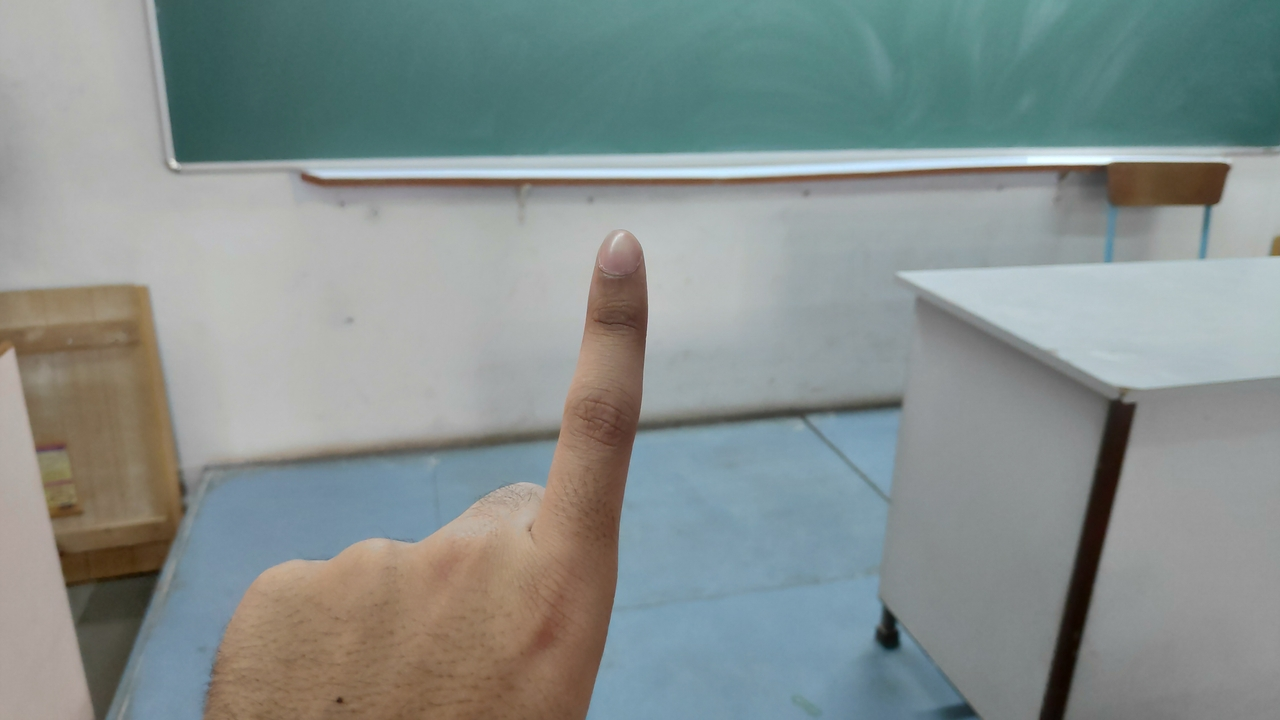fingertip: (588, 224, 650, 284)
